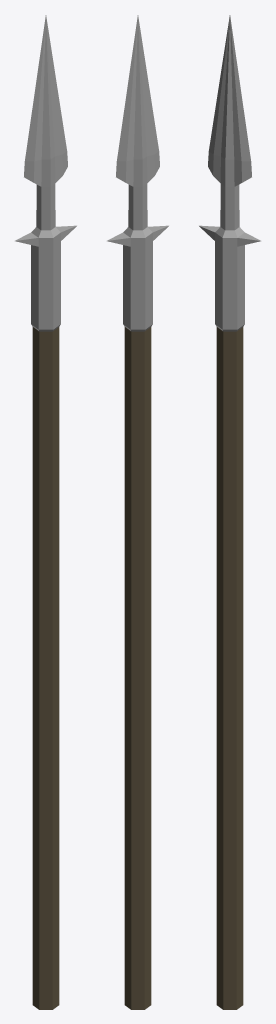
Rendered from Spear.fbx.
3 renders of one model, left to right at view 1: azimuth 30°, elevation 25°; view 2: azimuth 210°, elevation 25°; view 3: azimuth 330°, elevation 25°, orthographic.
Visible parts, largest first — view 1: Spear:Spear; view 2: Spear:Spear; view 3: Spear:Spear.
Part boxes in pixels (box(x1,y1,x2,y2)): Spear:Spear: box(15, 15, 76, 1009); Spear:Spear: box(107, 15, 168, 1009); Spear:Spear: box(199, 15, 260, 1009).
Size of the model in its own units: 0.1637 by 2.44 by 0.0669.
